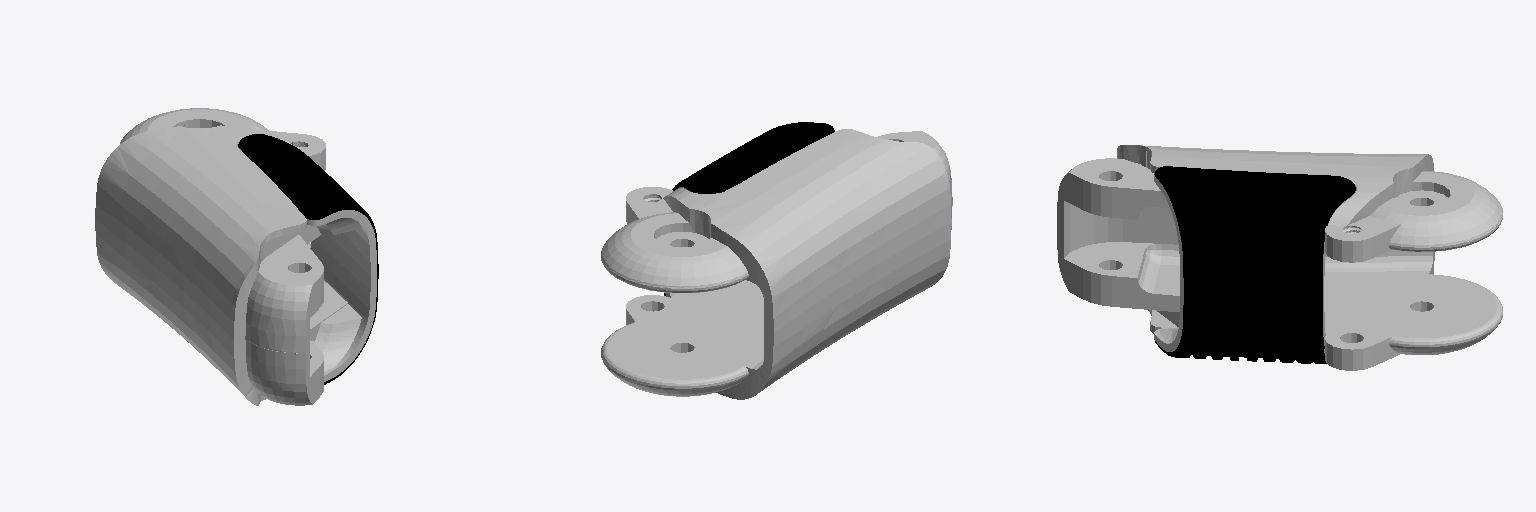
The model's file is index_2.obj.
The picture shows the model from 3 angles: view 1: azimuth 30°, elevation 25°; view 2: azimuth 150°, elevation 25°; view 3: azimuth 270°, elevation 25°; orthographic projection.
Visible parts, largest first — view 1: index_middle; view 2: index_middle; view 3: index_middle.
Part boxes in pixels (x1,y1,x2,y2): index_middle: (95, 108, 378, 405); index_middle: (601, 122, 952, 399); index_middle: (1057, 145, 1502, 370).
Bounding box in the file's own units: 0.0196 × 0.016 × 0.0369.